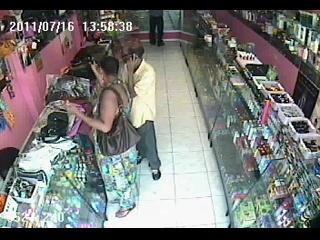Normal: (65, 55, 141, 218), (118, 41, 162, 181), (148, 10, 166, 46)
